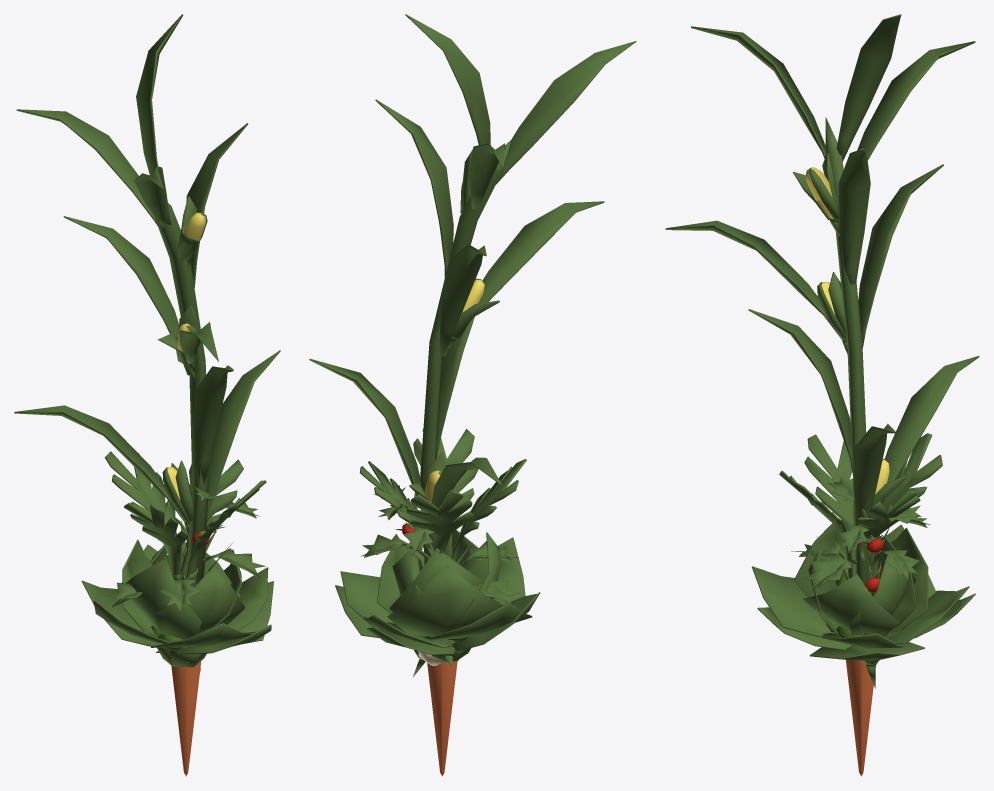
File: FOOD_wildvegetables_export.fbx
The picture shows the model from 3 angles, left to right: view 1: azimuth 30°, elevation 25°; view 2: azimuth 150°, elevation 25°; view 3: azimuth 270°, elevation 25°; orthographic projection. The views are drawn at different scales.
Visible parts, largest first — view 1: Empty_Mesh_8, Empty_Mesh_4, Empty_Mesh, Empty_Mesh_10, Empty_Mesh_2, Empty_Mesh_1; view 2: Empty_Mesh_8, Empty_Mesh_10, Empty_Mesh_4, Empty_Mesh, Empty_Mesh_2; view 3: Empty_Mesh_8, Empty_Mesh, Empty_Mesh_4, Empty_Mesh_10, Empty_Mesh_2.
Part boxes in pixels (x1,y1,x2,y2): Empty_Mesh_8: (14, 14, 280, 584); Empty_Mesh_4: (104, 451, 266, 776); Empty_Mesh: (81, 544, 273, 647); Empty_Mesh_10: (93, 539, 271, 654); Empty_Mesh_2: (105, 484, 265, 612); Empty_Mesh_1: (157, 647, 206, 667); Empty_Mesh_8: (309, 14, 636, 564); Empty_Mesh_10: (340, 529, 540, 654); Empty_Mesh_4: (360, 428, 526, 776); Empty_Mesh: (335, 532, 532, 647); Empty_Mesh_2: (361, 463, 519, 603); Empty_Mesh_8: (665, 14, 979, 584); Empty_Mesh: (752, 522, 969, 660); Empty_Mesh_4: (779, 433, 942, 776); Empty_Mesh_10: (757, 527, 975, 650); Empty_Mesh_2: (791, 475, 930, 592).
Bounding box in the file's own units: 8.17 × 25.72 × 9.5.
